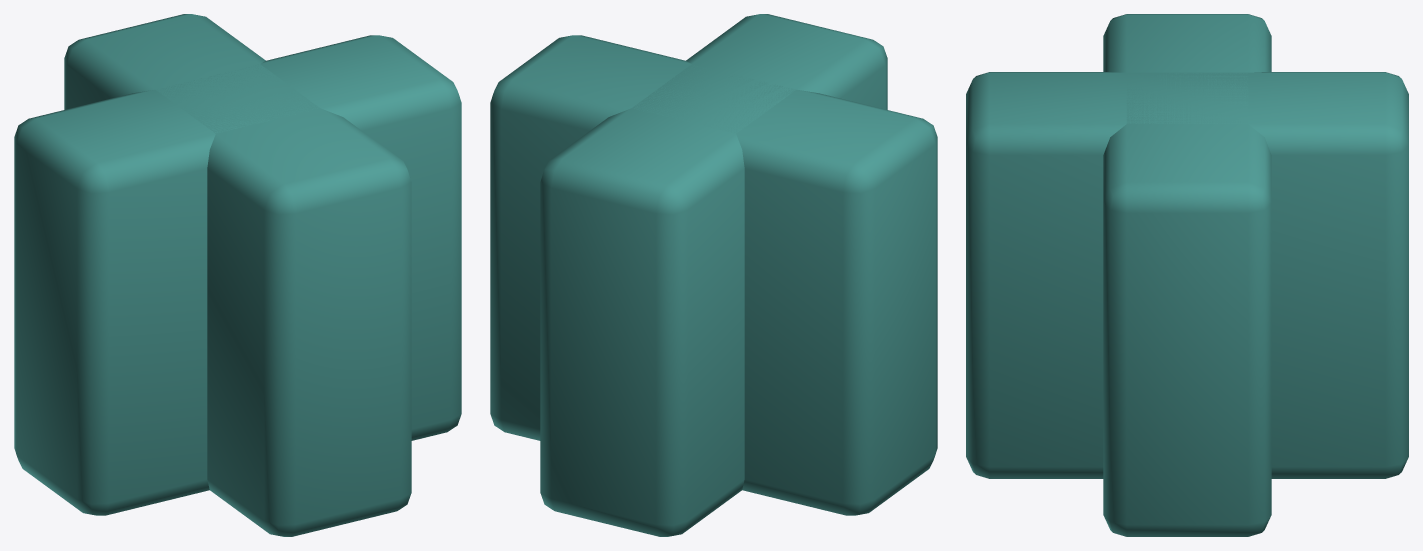
Rendered from token_cross.glb.
The picture shows the model from 3 angles, left to right: view 1: azimuth 30°, elevation 25°; view 2: azimuth 150°, elevation 25°; view 3: azimuth 270°, elevation 25°; orthographic projection.
Parts seen in each view (by area): view 1: Token_Body.004; view 2: Token_Body.004; view 3: Token_Body.004.
Boxes of the visible parts, x1,y1,x2,y2 form: Token_Body.004: (14,14,461,536); Token_Body.004: (490,14,937,536); Token_Body.004: (966,14,1408,536).
Bounding box in the file's own units: 0.34 × 0.3 × 0.34.
